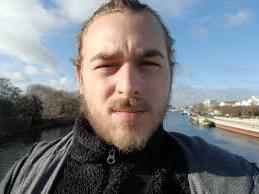face: (84, 9, 169, 145)
